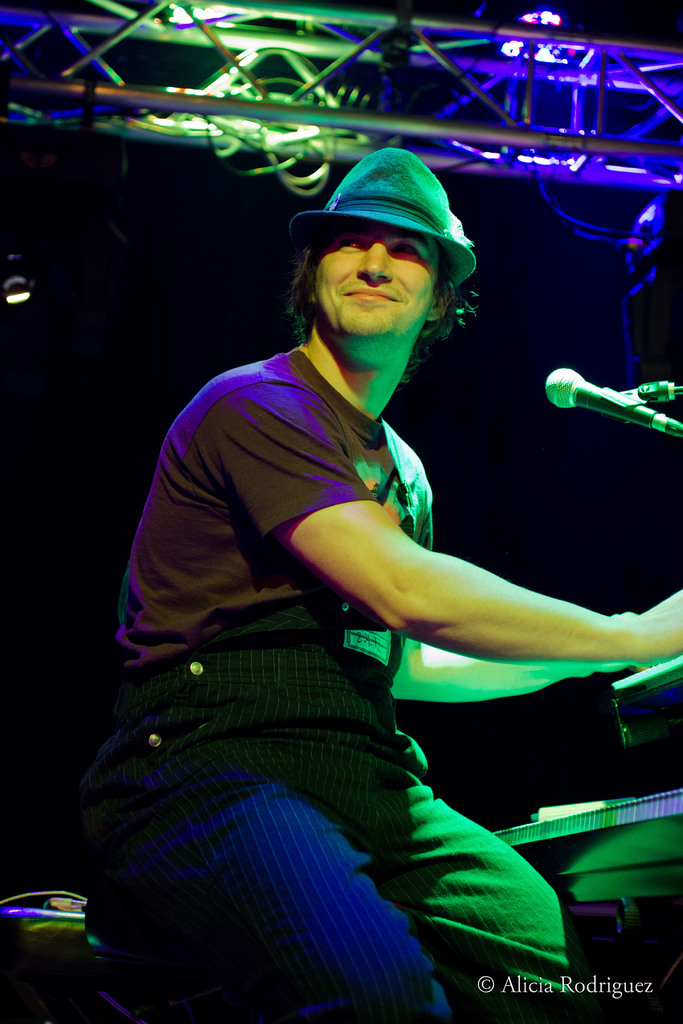Person: (80, 148, 682, 1023)
